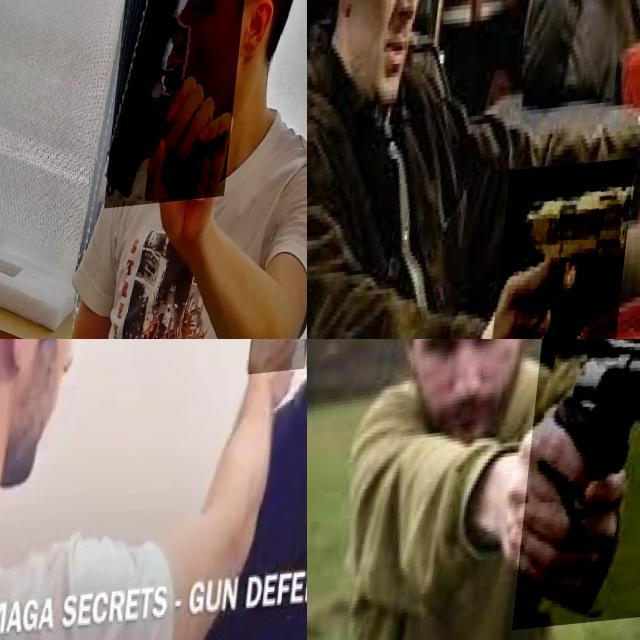gun-knife-thesis - v11 Yolov5 augmented: (523, 339, 640, 637), (112, 0, 257, 215), (501, 167, 640, 339), (254, 339, 307, 395)
